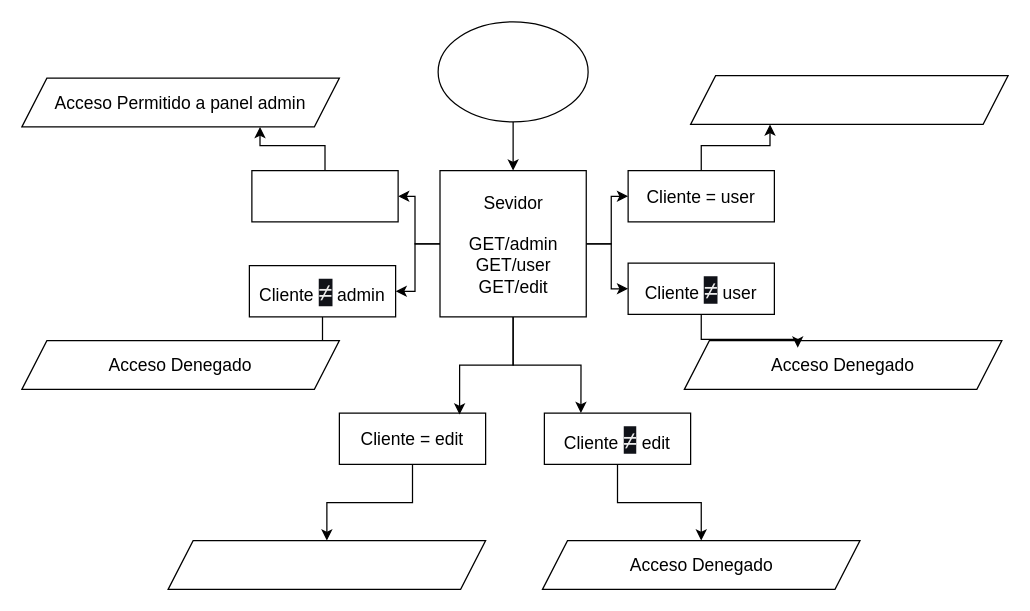
This 1030x611 diagram has some shape labels left out. Each missing label, with the box of its shape:
Acceso Permitido a panel editor: (167, 539, 486, 589)
Acceso Permitido a panel usuario: (689, 74, 1008, 124)
Cliente: (437, 21, 588, 122)
Cliente = admin: (251, 169, 398, 222)
